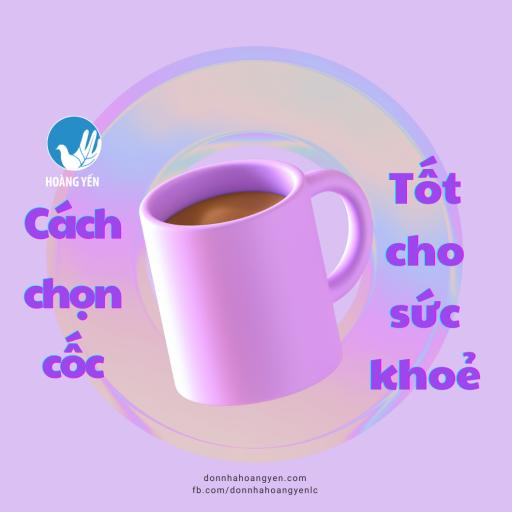cup: (140, 160, 372, 405), (140, 161, 372, 405)
